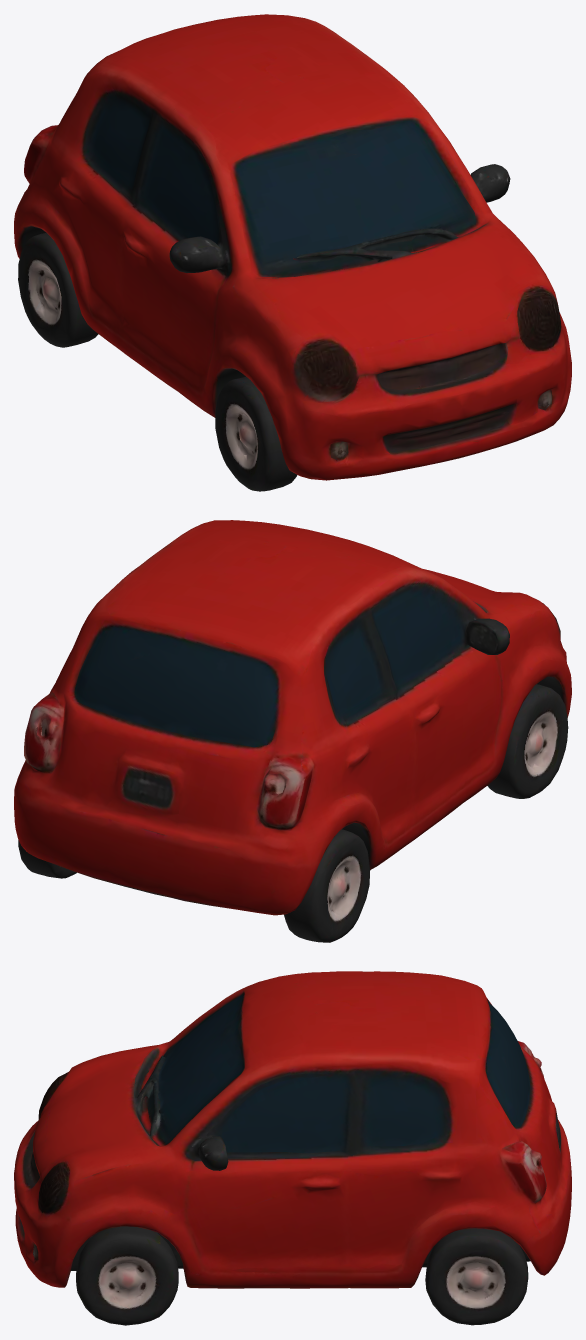
The model's file is bb_car_red.glb.
3 views of the same model, one above another, from view 1: azimuth 30°, elevation 25°; view 2: azimuth 150°, elevation 25°; view 3: azimuth 270°, elevation 25° (orthographic). The views are drawn at different scales.
Size of the model in its own units: 0.6165 by 0.5143 by 1.
Materials: 1 (1 with a texture image).
